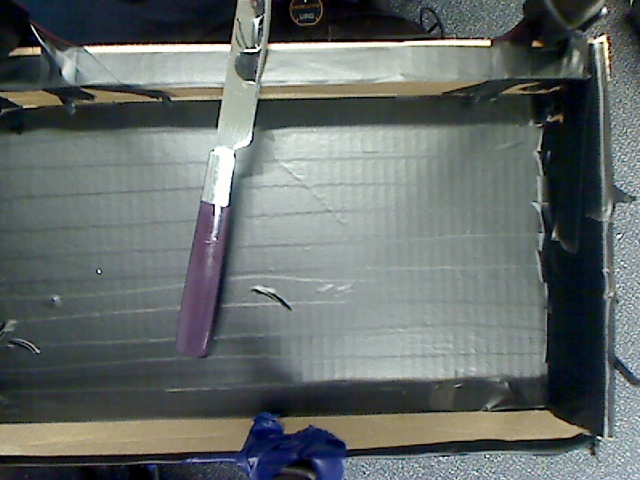knife: (164, 1, 276, 377)
